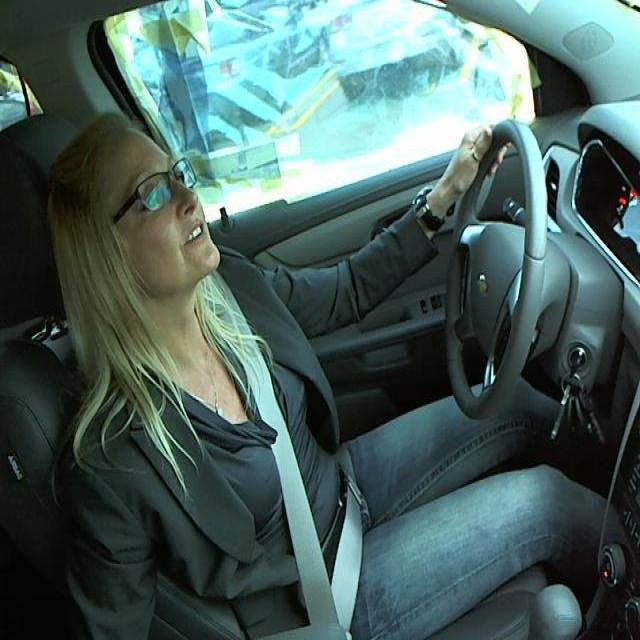seatbelt: (207, 313, 380, 619)
